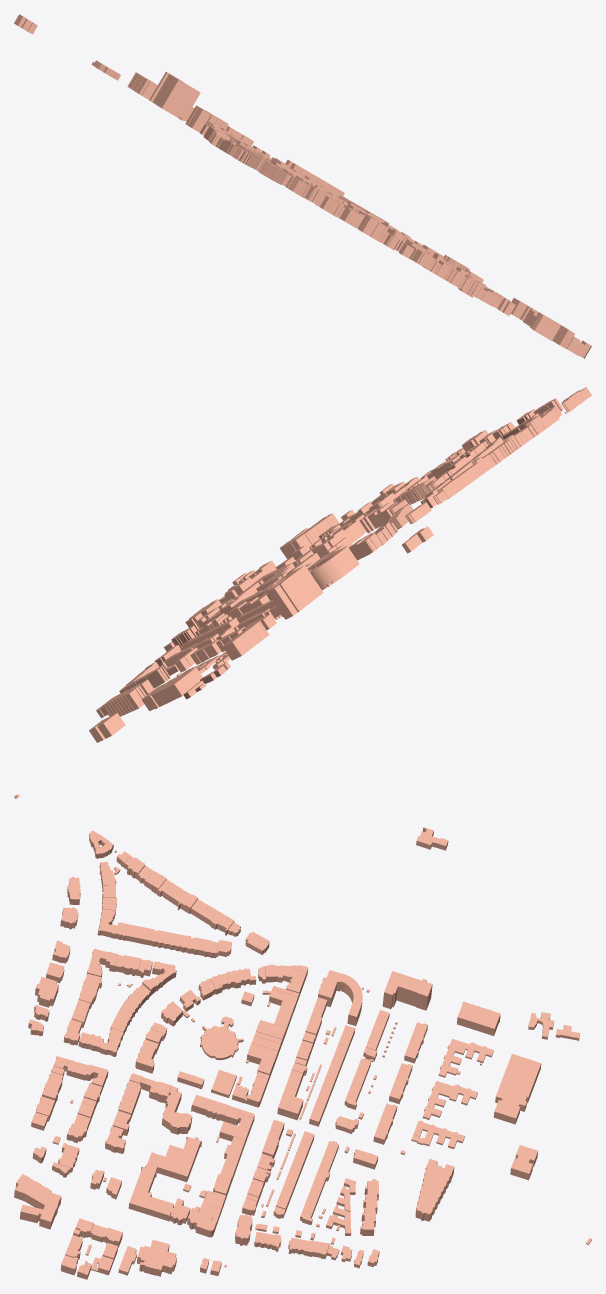
The picture shows the model from 3 angles, top to bottom: view 1: azimuth 30°, elevation 25°; view 2: azimuth 150°, elevation 25°; view 3: azimuth 270°, elevation 25°; orthographic projection. The views are drawn at different scales.
Size of the model in its own units: 448 by 337 by 618.
